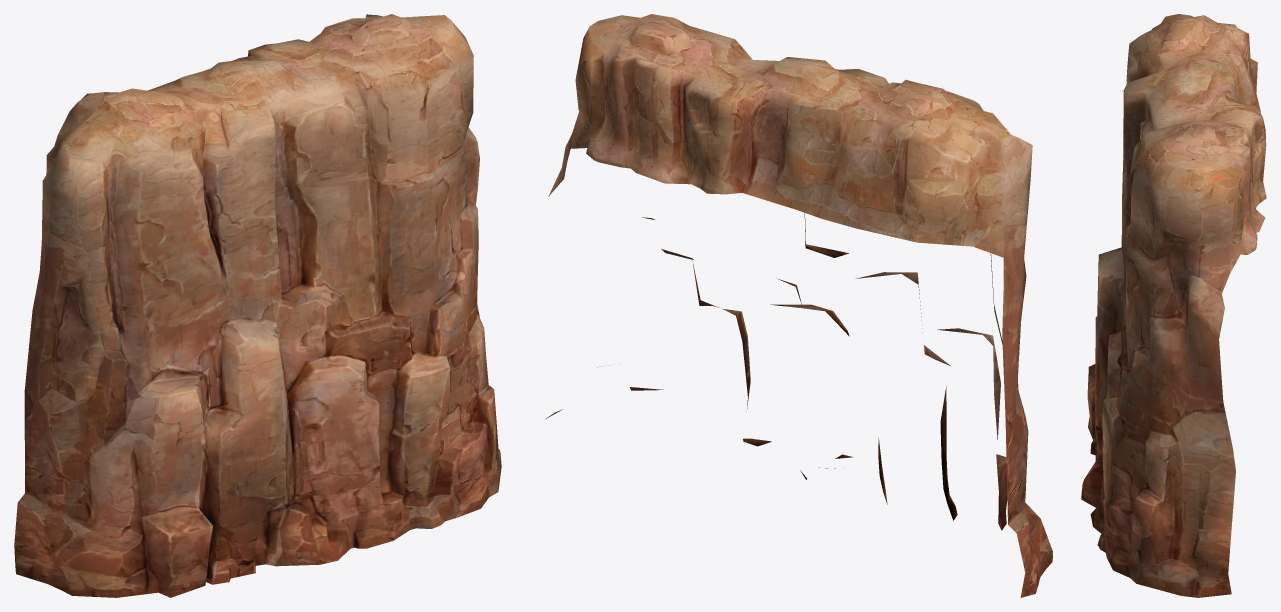
Rendered from kor_wilds_cliff_40m_small_v1.glb.
3 views of the same model, side by side, from view 1: azimuth 30°, elevation 25°; view 2: azimuth 150°, elevation 25°; view 3: azimuth 270°, elevation 25° (orthographic). The views are drawn at different scales.
Parts seen in each view (by area): view 1: kor_wilds_cliff_40m_small_v1; view 2: kor_wilds_cliff_40m_small_v1; view 3: kor_wilds_cliff_40m_small_v1.
Boxes of the visible parts, left/top/right/bottom form: kor_wilds_cliff_40m_small_v1: left=14, top=14, right=501, bottom=597; kor_wilds_cliff_40m_small_v1: left=546, top=14, right=1052, bottom=597; kor_wilds_cliff_40m_small_v1: left=1081, top=14, right=1266, bottom=597.
Bounding box in the file's own units: 4.68 × 4.32 × 1.74.
1 material, 1 textured.
